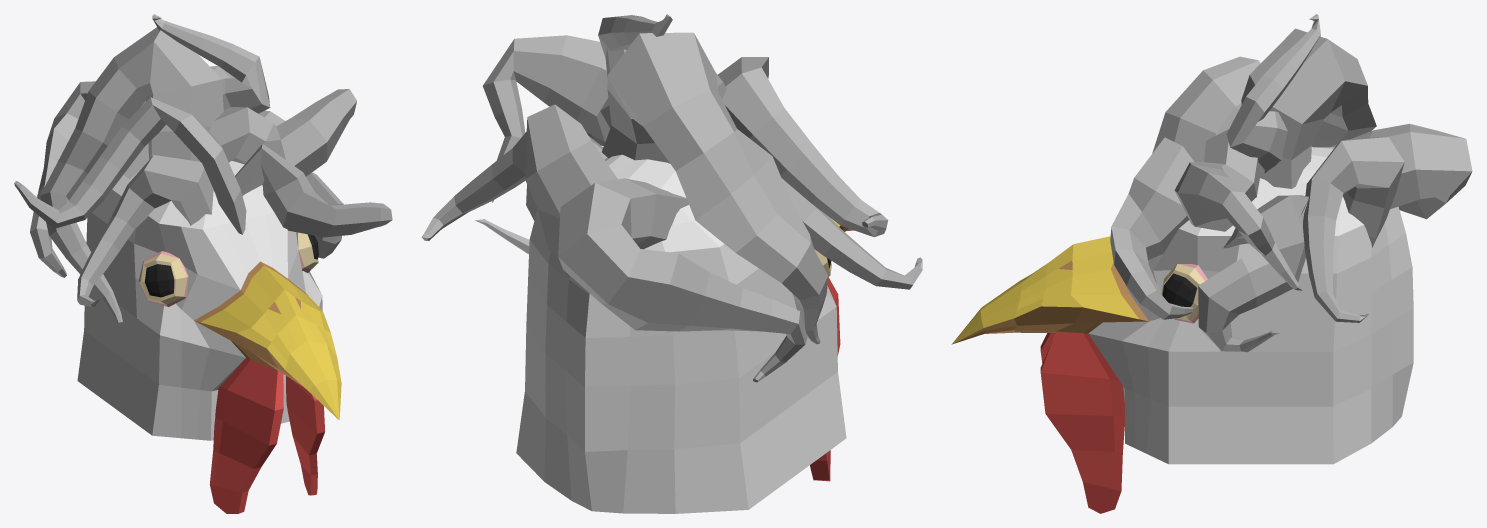
File: RosterHead.fbx
3 views of the same model, side by side, from view 1: azimuth 30°, elevation 25°; view 2: azimuth 150°, elevation 25°; view 3: azimuth 270°, elevation 25° (orthographic). The views are drawn at different scales.
Parts seen in each view (by area): view 1: Hair; view 2: Hair; view 3: Hair.
Boxes of the visible parts, x1,y1,x2,y2 form: Hair: (14,14,392,513); Hair: (421,14,922,513); Hair: (951,14,1472,513).
Bounding box in the file's own units: 25.22 × 31.99 × 32.46.
